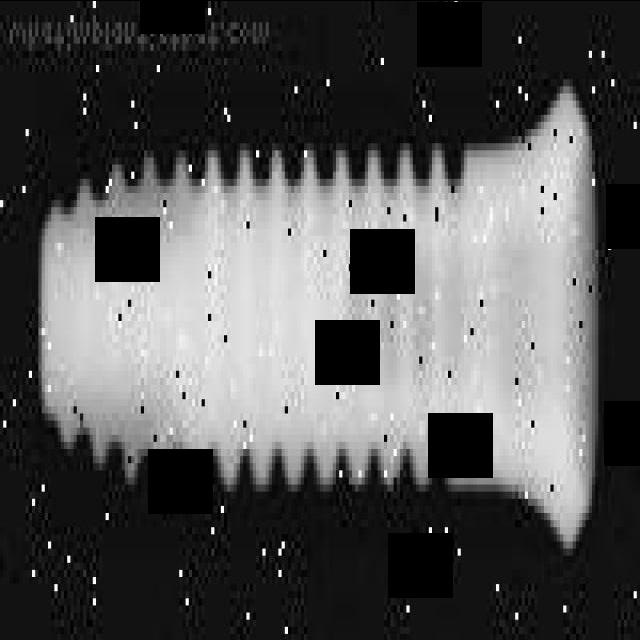Osstem Implant: (33, 78, 602, 563)
